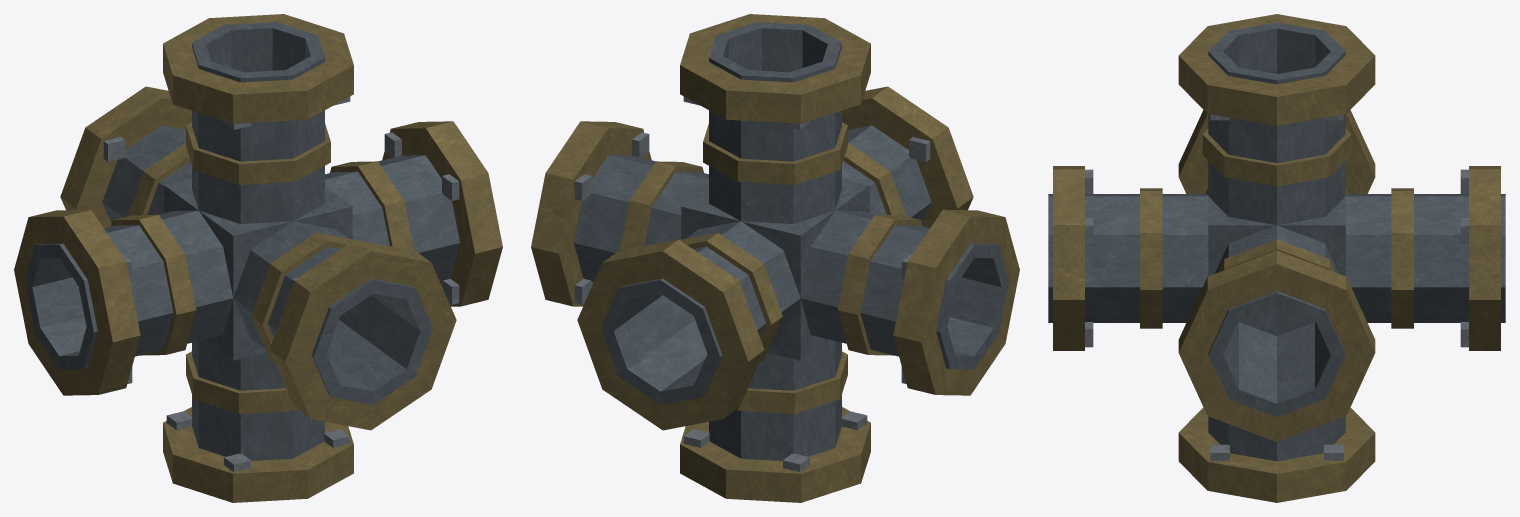
Rendered from iron_pipe.gltf.
The picture shows the model from 3 angles, left to right: view 1: azimuth 30°, elevation 25°; view 2: azimuth 150°, elevation 25°; view 3: azimuth 270°, elevation 25°; orthographic projection.
Bounding box in the file's own units: 1 × 1 × 1.
3 materials, 3 textured.
